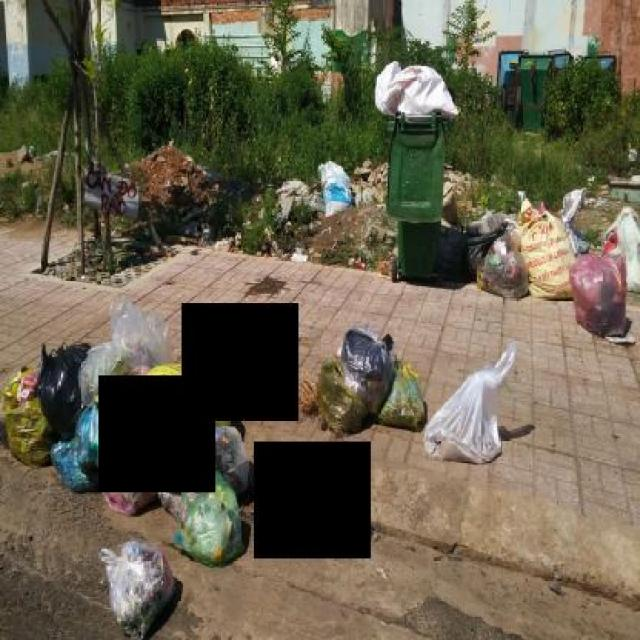plastic bag: (48, 296, 234, 484), (420, 337, 534, 463), (169, 452, 249, 568), (317, 324, 400, 430), (98, 535, 182, 631), (514, 188, 577, 306), (40, 334, 95, 452), (568, 236, 626, 342), (98, 418, 158, 518), (374, 62, 461, 118), (1, 384, 54, 470), (475, 232, 531, 300), (606, 200, 639, 306), (380, 358, 426, 429), (560, 178, 591, 260), (317, 154, 357, 214), (10, 362, 42, 412)
